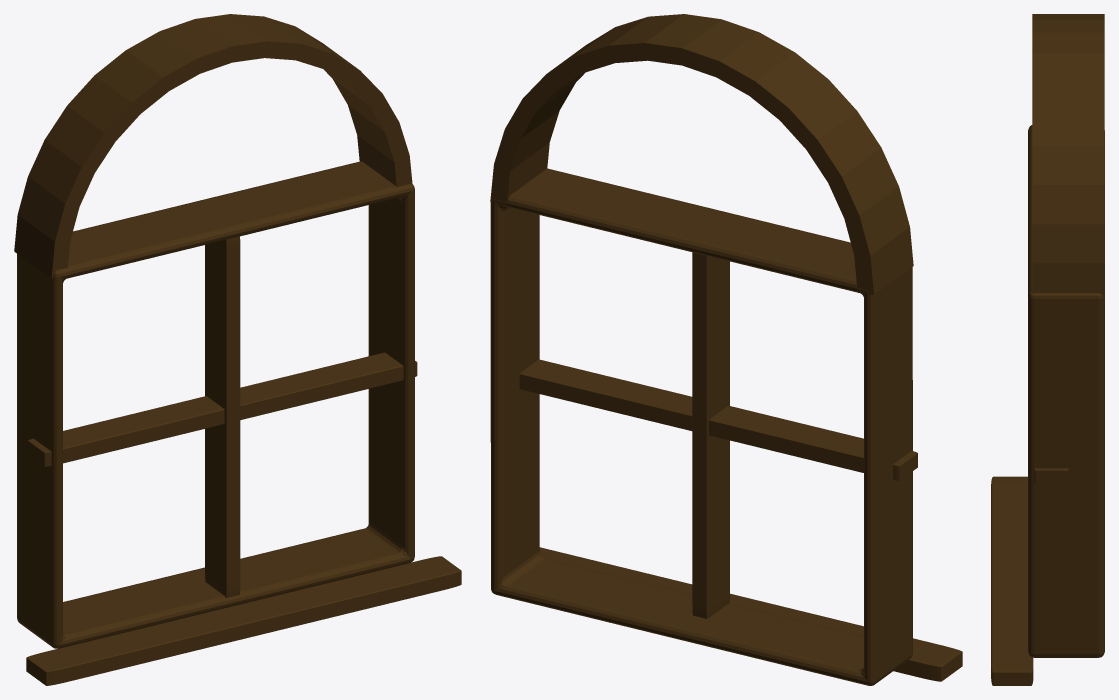
The model's file is Window06.fbx.
3 renders of one model, left to right at view 1: azimuth 30°, elevation 25°; view 2: azimuth 150°, elevation 25°; view 3: azimuth 270°, elevation 25°, orthographic. The views are drawn at different scales.
Parts seen in each view (by area): view 1: WindowFrame04, WindowCylinder.001, WindowFrame04.001, WindowFrame01, WindowFrame01.002, WindowFrame01.003, WindowFrame01.001; view 2: WindowFrame04, WindowFrame04.001, WindowCylinder.001, WindowFrame01.002, WindowFrame01.003, WindowFrame01, WindowFrame01.001; view 3: WindowFrame04.001, WindowFrame04, WindowCylinder.001, WindowFrame01, WindowFrame01.001, WindowFrame01.003.
Boxes of the visible parts, x1,y1,x2,y2 form: WindowFrame04: (17, 161, 414, 648); WindowCylinder.001: (14, 14, 412, 278); WindowFrame04.001: (17, 161, 414, 648); WindowFrame01: (26, 556, 461, 685); WindowFrame01.002: (205, 236, 240, 597); WindowFrame01.003: (28, 352, 417, 466); WindowFrame01.001: (30, 573, 455, 685); WindowFrame04: (490, 168, 912, 685); WindowFrame04.001: (490, 169, 912, 685); WindowCylinder.001: (490, 14, 913, 294); WindowFrame01.002: (692, 252, 729, 618); WindowFrame01.003: (519, 359, 917, 480); WindowFrame01: (539, 547, 962, 681); WindowFrame01.001: (540, 548, 962, 678); WindowFrame04.001: (1028, 125, 1104, 657); WindowFrame04: (1028, 125, 1104, 657); WindowCylinder.001: (1032, 14, 1104, 299); WindowFrame01: (991, 476, 1033, 685); WindowFrame01.001: (991, 476, 1033, 685); WindowFrame01.003: (1034, 468, 1068, 483).
Bounding box in the file's own units: 64.22 × 84.89 × 15.77.
